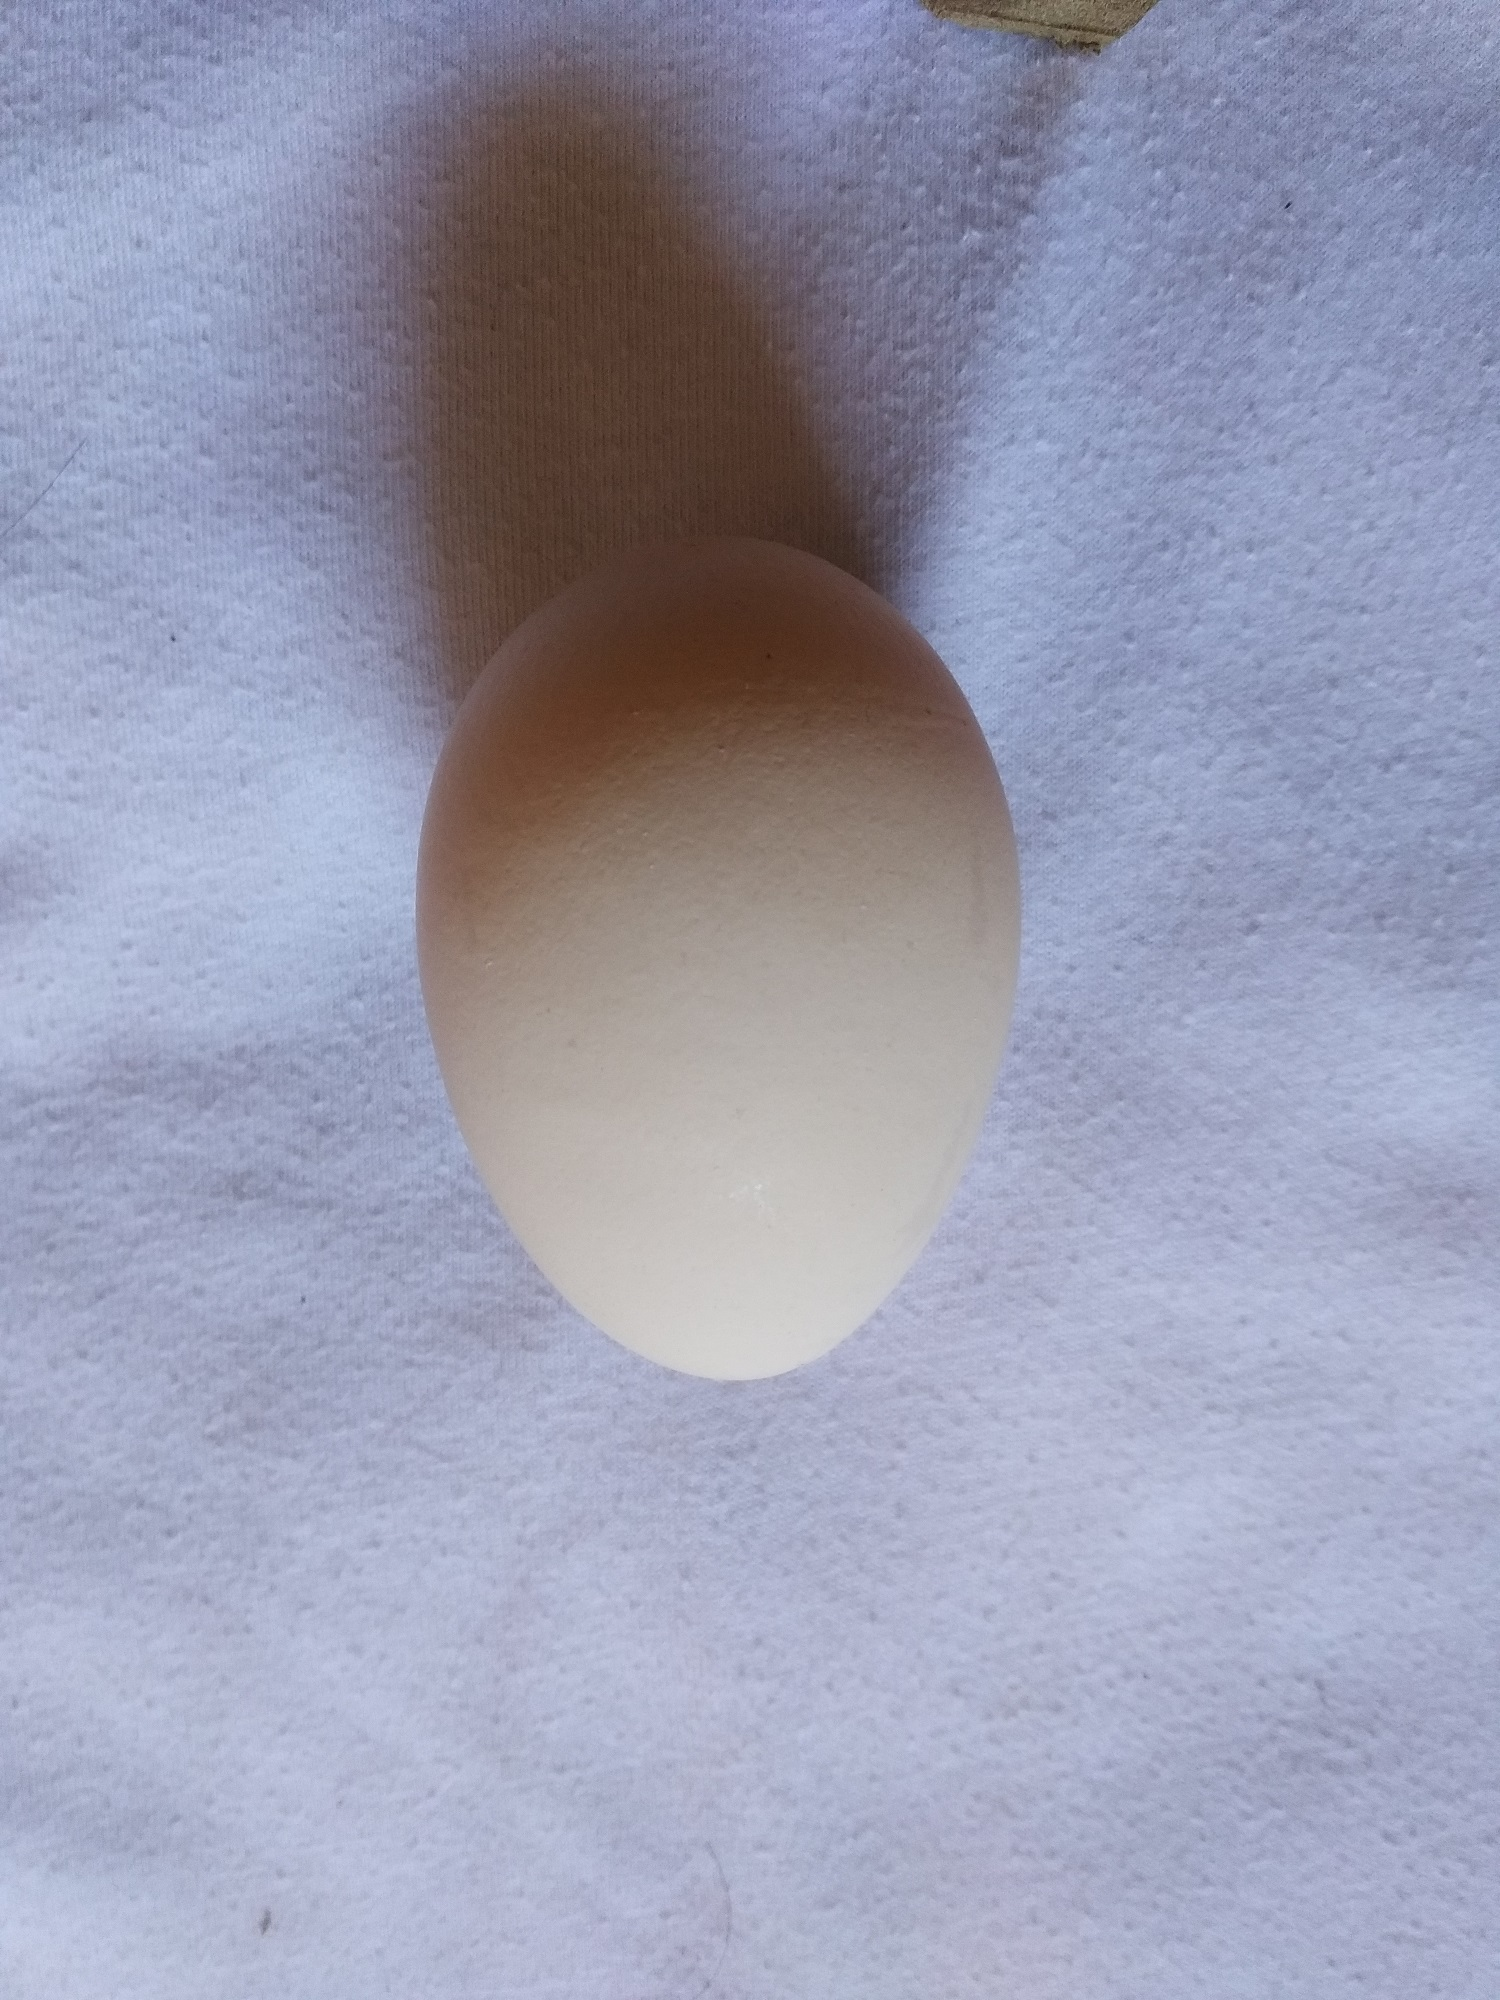Male: (410, 528, 1035, 1387)
